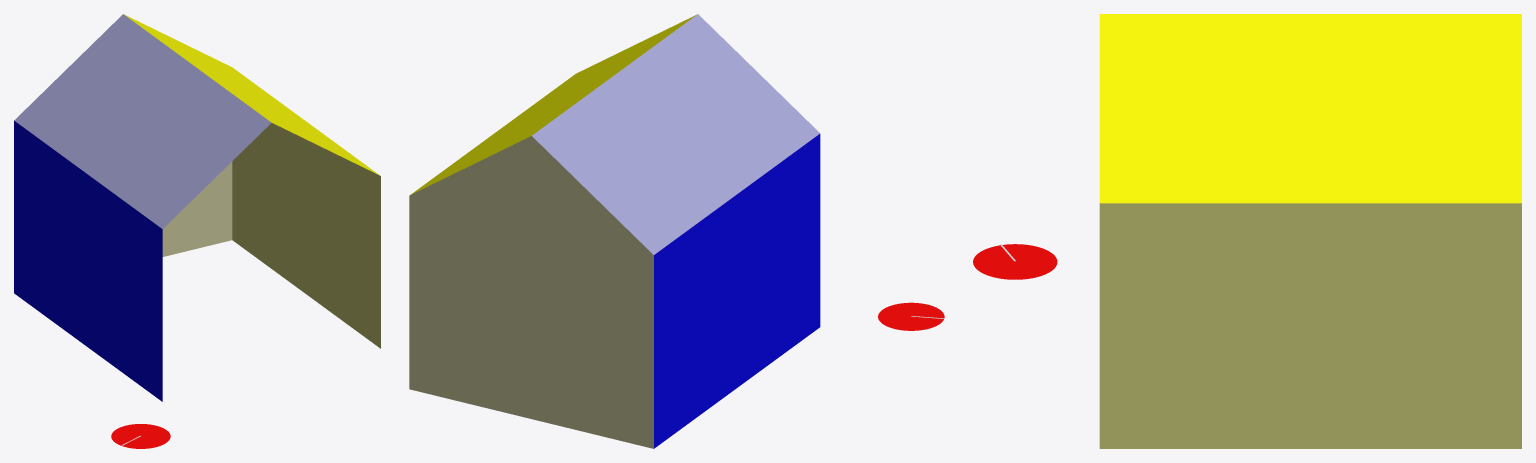
The model's file is result.glb.
The picture shows the model from 3 angles, left to right: view 1: azimuth 30°, elevation 25°; view 2: azimuth 150°, elevation 25°; view 3: azimuth 270°, elevation 25°; orthographic projection. The views are drawn at different scales.
Visible parts, largest first — view 1: acae9ac5-60ed-42a3-8ae0-754085eb5861__undefined, e3e0c6f9-d4fe-4ab1-a6e9-9c162c149aeb__undefined, aea95fda-5ce4-4bee-8c74-54d0db0c7c57__undefined, de24a653-6978-4b5c-bc0e-b862317ffcfa__undefined, ff82e870-8e10-4da0-b436-aad6f9f1c648__undefined, 11ce293b-413a-4c45-a755-d6d107ecefc6__Circle; view 2: ff82e870-8e10-4da0-b436-aad6f9f1c648__undefined, acae9ac5-60ed-42a3-8ae0-754085eb5861__undefined, e3e0c6f9-d4fe-4ab1-a6e9-9c162c149aeb__undefined, de24a653-6978-4b5c-bc0e-b862317ffcfa__undefined, 11ce293b-413a-4c45-a755-d6d107ecefc6__Circle; view 3: aea95fda-5ce4-4bee-8c74-54d0db0c7c57__undefined, de24a653-6978-4b5c-bc0e-b862317ffcfa__undefined, 11ce293b-413a-4c45-a755-d6d107ecefc6__Circle.
Boxes of the visible parts, box(x1,y1,x2,y2) form: acae9ac5-60ed-42a3-8ae0-754085eb5861__undefined: box(14, 14, 271, 228); e3e0c6f9-d4fe-4ab1-a6e9-9c162c149aeb__undefined: box(14, 120, 162, 401); aea95fda-5ce4-4bee-8c74-54d0db0c7c57__undefined: box(232, 123, 380, 348); de24a653-6978-4b5c-bc0e-b862317ffcfa__undefined: box(124, 14, 379, 175); ff82e870-8e10-4da0-b436-aad6f9f1c648__undefined: box(162, 161, 232, 256); 11ce293b-413a-4c45-a755-d6d107ecefc6__Circle: box(111, 424, 170, 448); ff82e870-8e10-4da0-b436-aad6f9f1c648__undefined: box(409, 136, 653, 448); acae9ac5-60ed-42a3-8ae0-754085eb5861__undefined: box(532, 14, 819, 254); e3e0c6f9-d4fe-4ab1-a6e9-9c162c149aeb__undefined: box(654, 134, 820, 448); de24a653-6978-4b5c-bc0e-b862317ffcfa__undefined: box(410, 14, 697, 194); 11ce293b-413a-4c45-a755-d6d107ecefc6__Circle: box(878, 302, 944, 330); aea95fda-5ce4-4bee-8c74-54d0db0c7c57__undefined: box(1099, 203, 1521, 448); de24a653-6978-4b5c-bc0e-b862317ffcfa__undefined: box(1099, 14, 1521, 203); 11ce293b-413a-4c45-a755-d6d107ecefc6__Circle: box(973, 244, 1057, 279).
Size of the model in its own units: 574 by 469 by 650.
